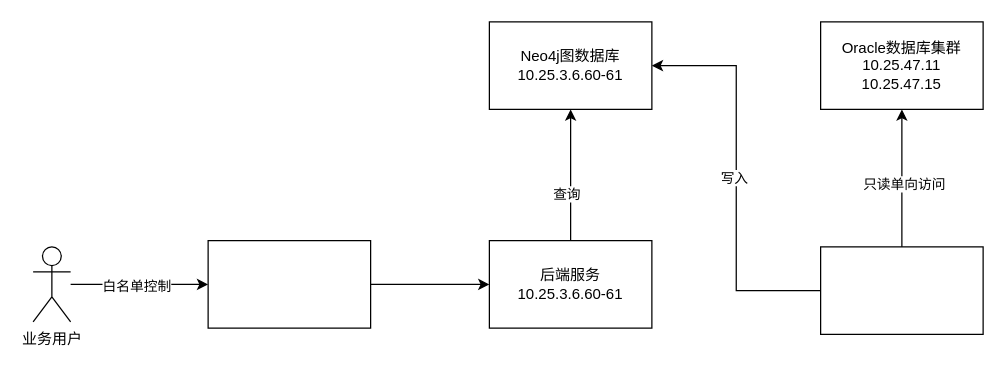
Some shapes in this 1005 by 370 pixel diagram are drawn without their labels. Here are the shapes that lost their labels. From the top down, the box of each, then its label:
(207, 239, 371, 328): 前端服务 10.25.3.6.60-61 端口：88-92
(819, 246, 983, 334): Airflow ETL服务 10.25.3.6.62
